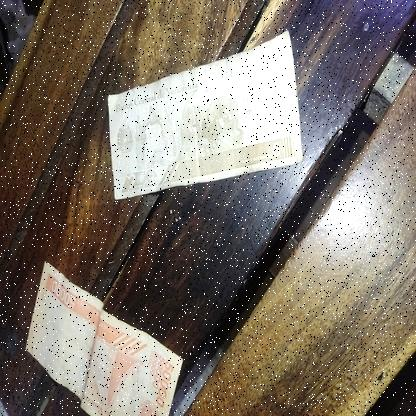five-back-vef: (106, 29, 303, 200)
